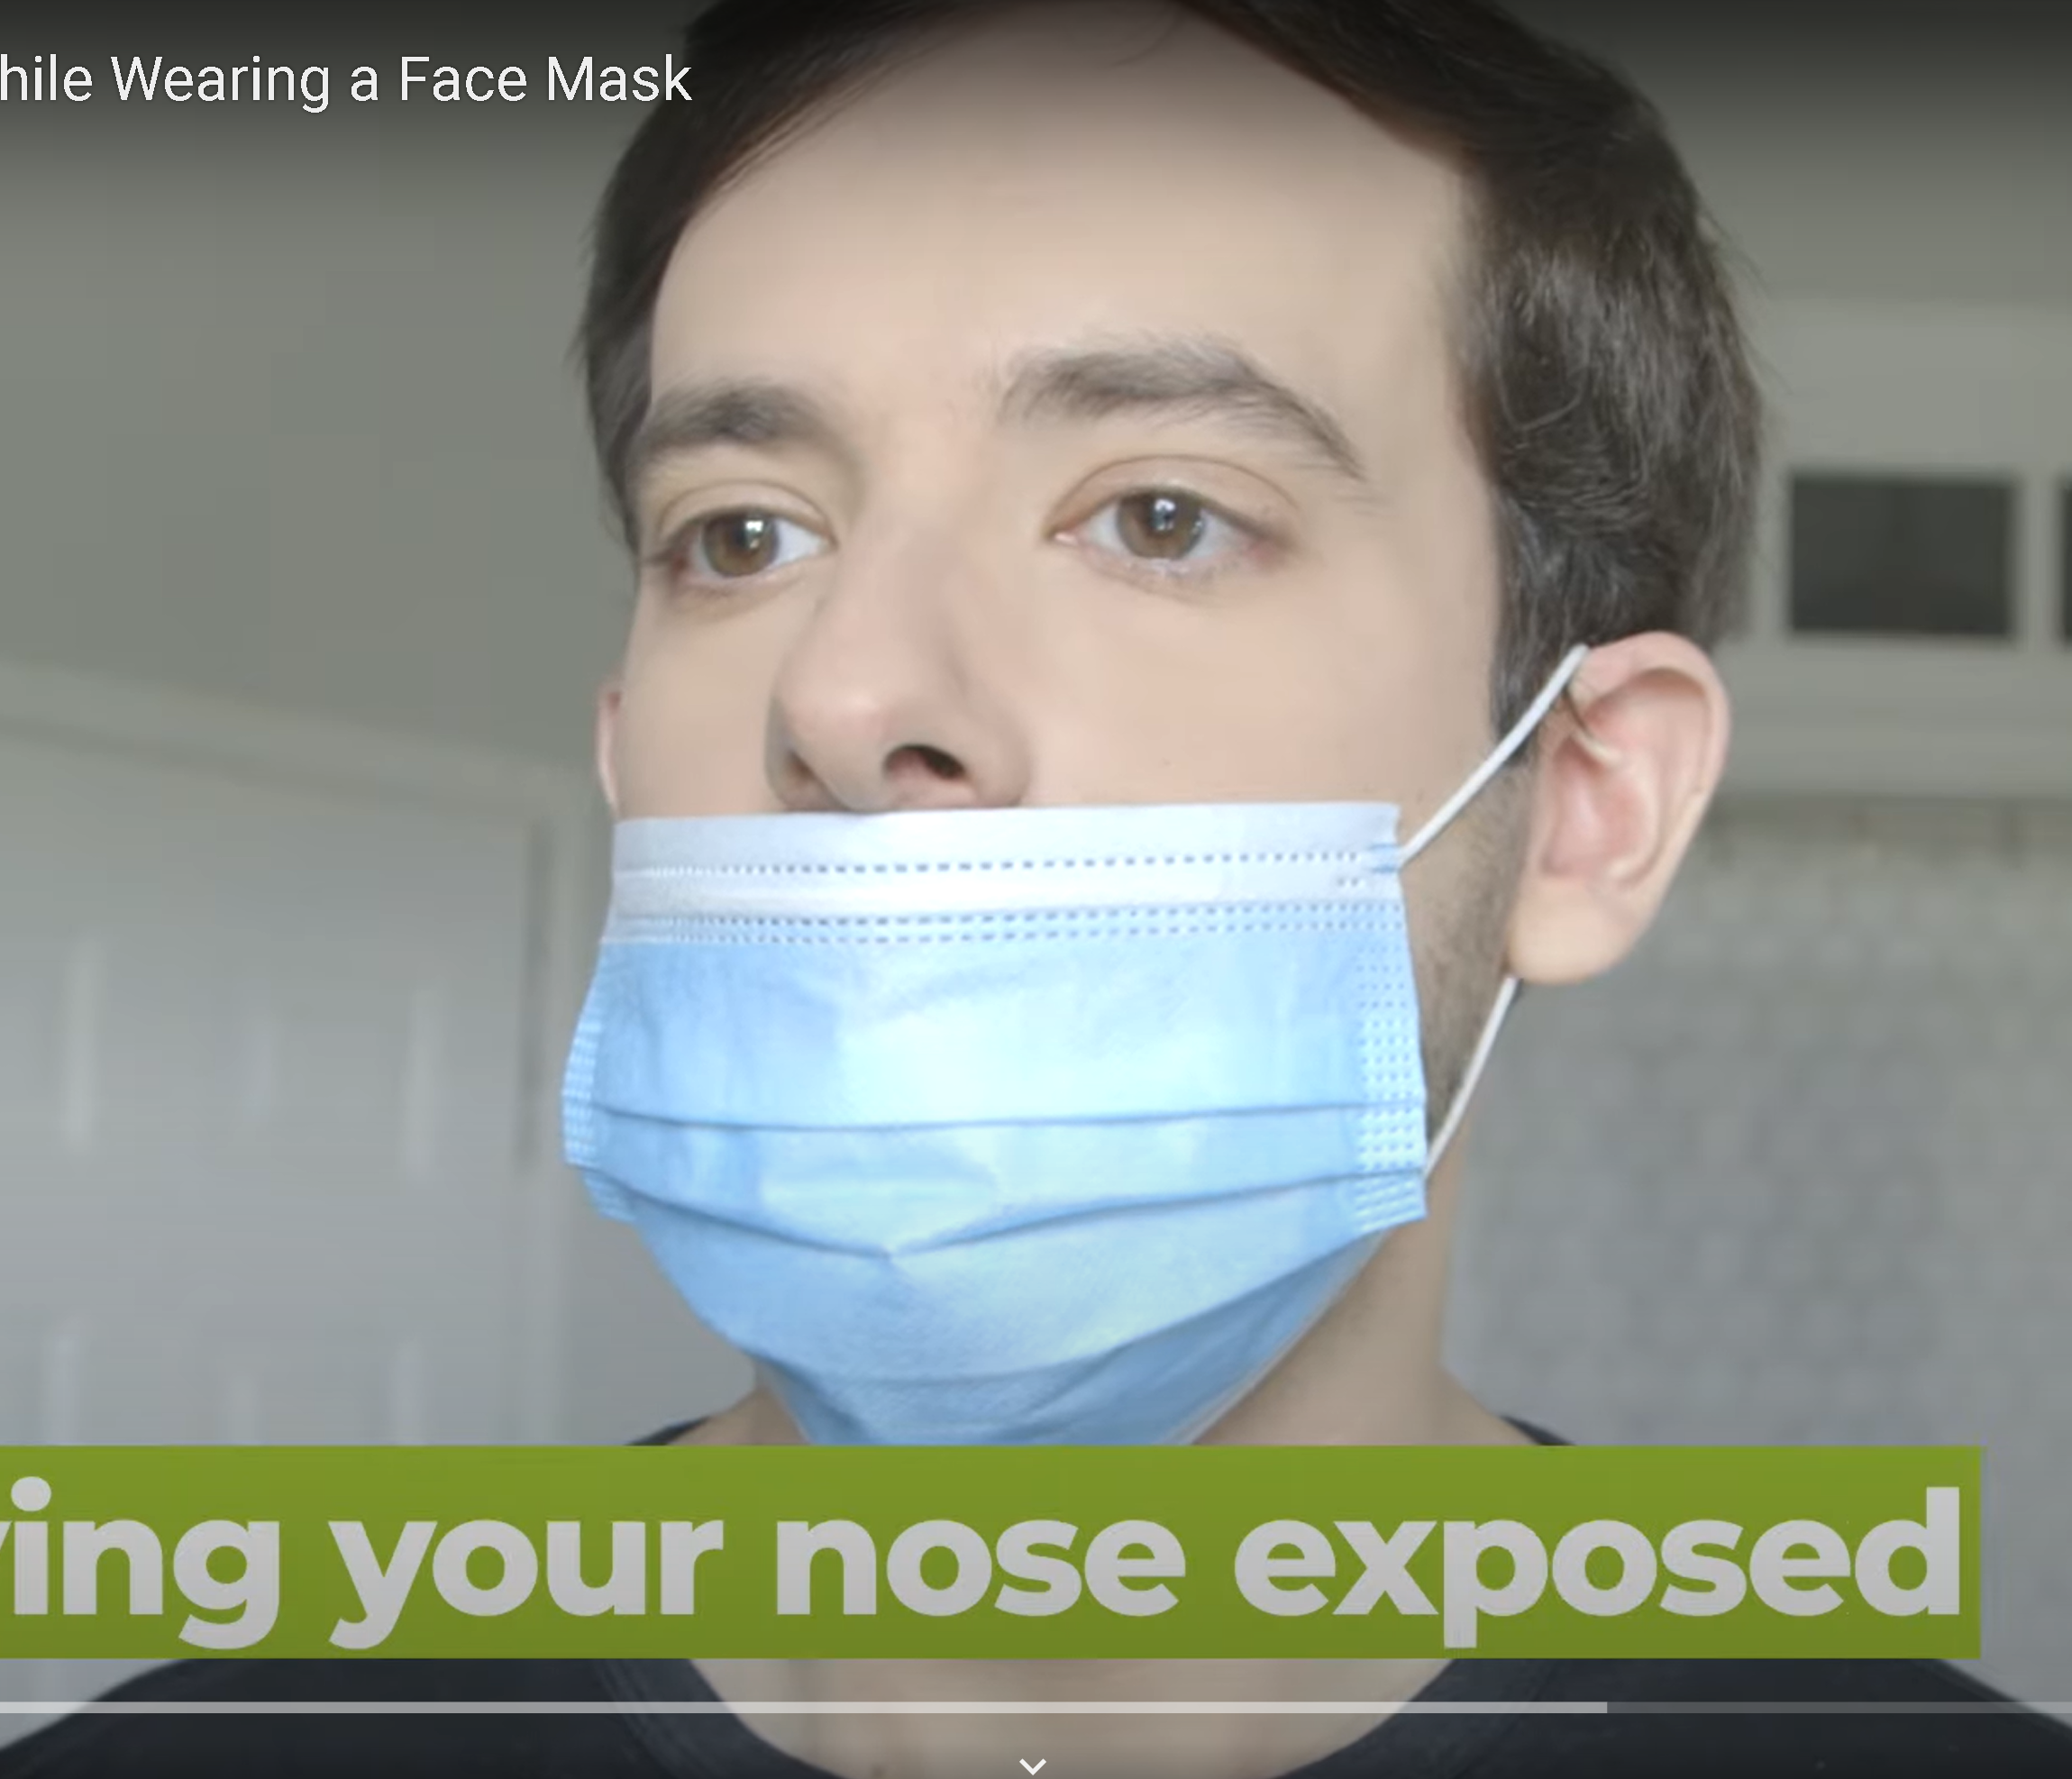mask_weared_incorrect: (528, 171, 1744, 1466)
